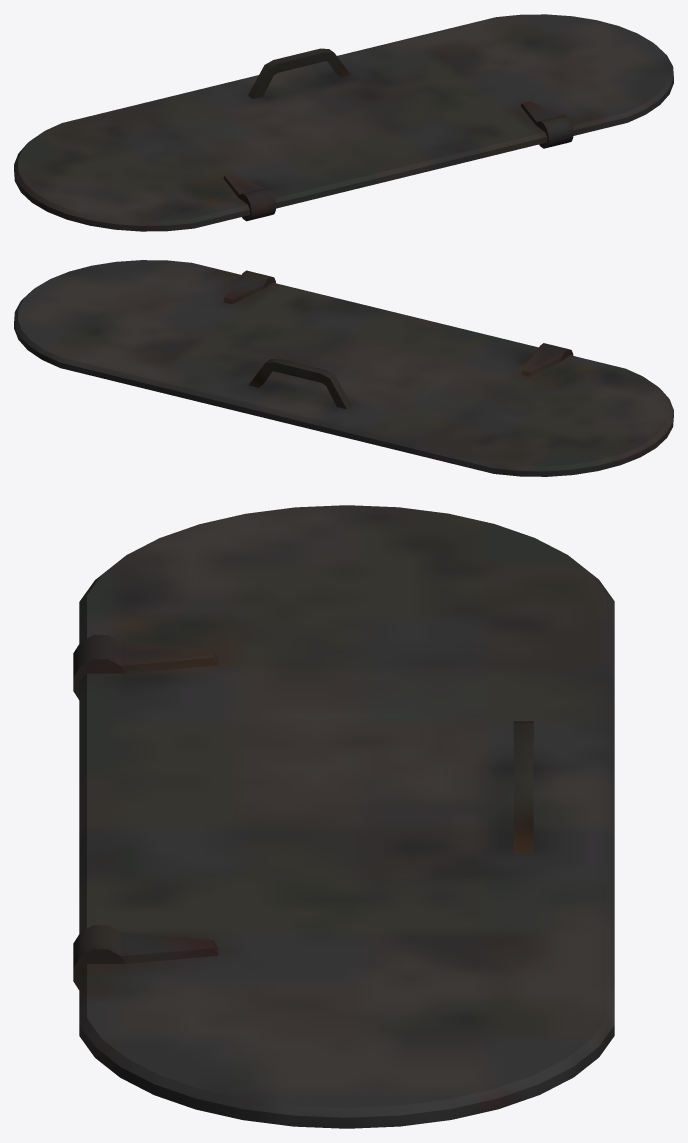
File: AxTenderHatch.fbx
The picture shows the model from 3 angles, top to bottom: view 1: azimuth 30°, elevation 25°; view 2: azimuth 150°, elevation 25°; view 3: azimuth 270°, elevation 25°; orthographic projection. The views are drawn at different scales.
Visible parts, largest first — view 1: s282_tender.001; view 2: s282_tender.001; view 3: s282_tender.001.
Boxes of the visible parts, x1,y1,x2,y2 form: s282_tender.001: (14,14,673,231); s282_tender.001: (14,260,673,476); s282_tender.001: (73,505,614,1128).
Size of the model in its own units: 169 by 12.26 by 63.54.
